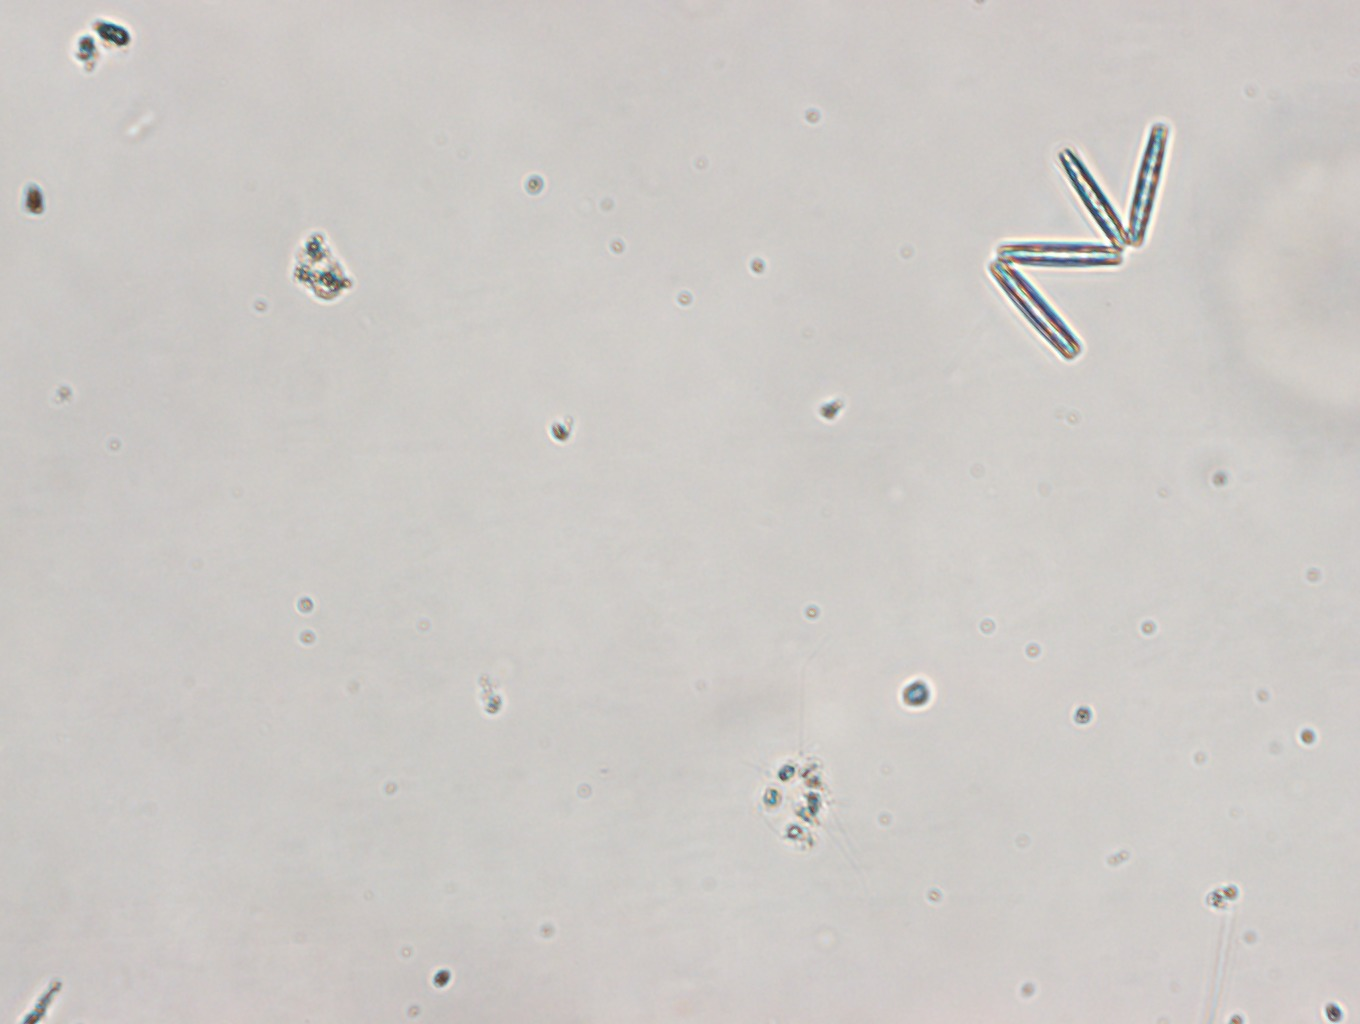thalassionema nitzschioides: (984, 116, 1175, 362)
